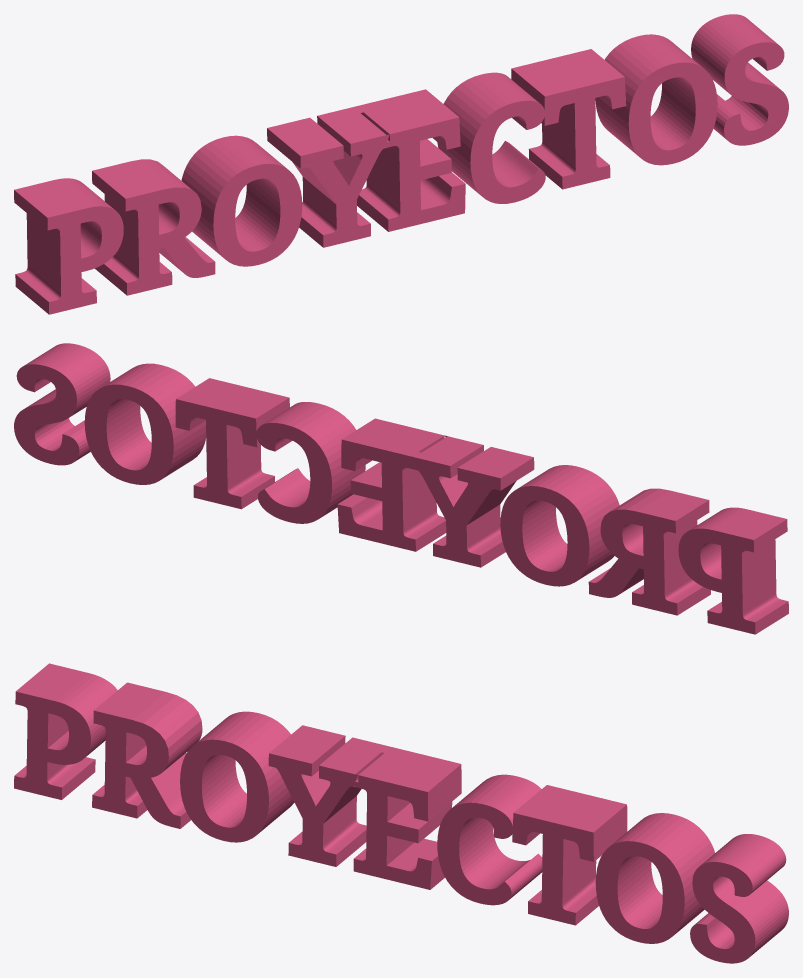
Rendered from PROYECTOS.glb.
3 renders of one model, top to bottom at view 1: azimuth 30°, elevation 25°; view 2: azimuth 150°, elevation 25°; view 3: azimuth 330°, elevation 25°, orthographic.
Visible parts, largest first — view 1: Mesh_Mesh_head_geo.001_lambert2SG.001; view 2: Mesh_Mesh_head_geo.001_lambert2SG.001; view 3: Mesh_Mesh_head_geo.001_lambert2SG.001.
Boxes of the visible parts, x1,y1,x2,y2 form: Mesh_Mesh_head_geo.001_lambert2SG.001: [14, 14, 788, 314]; Mesh_Mesh_head_geo.001_lambert2SG.001: [14, 343, 788, 634]; Mesh_Mesh_head_geo.001_lambert2SG.001: [14, 663, 788, 963].
Bounding box in the file's own units: 159 × 20.92 × 13.11.
